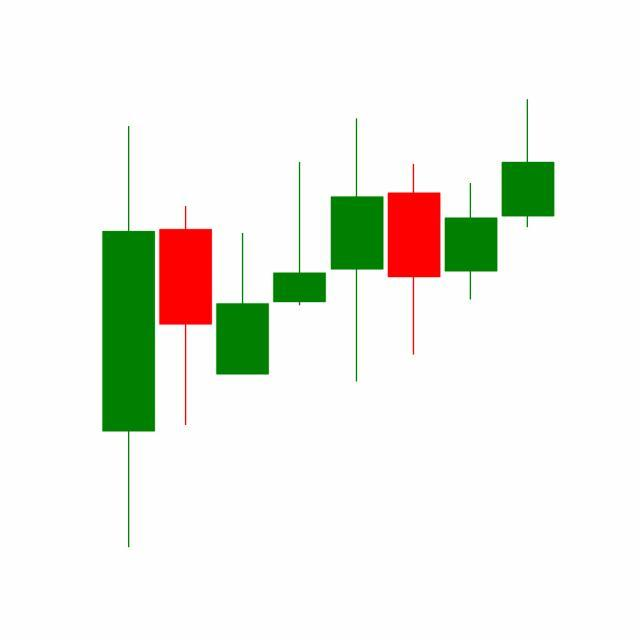Hikkake Pattern: (270, 99, 555, 386)
